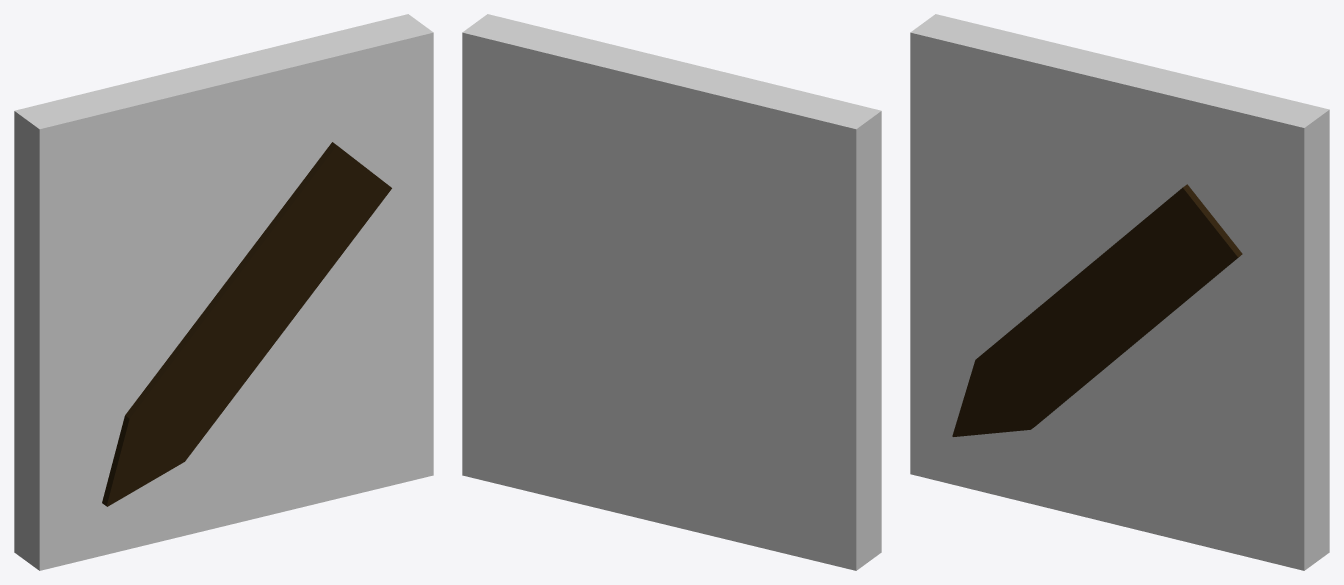
Rendered from button_edit.gltf.
3 views of the same model, side by side, from view 1: azimuth 30°, elevation 25°; view 2: azimuth 150°, elevation 25°; view 3: azimuth 330°, elevation 25° (orthographic).
Parts seen in each view (by area): view 1: ButtonEdit; view 2: ButtonEdit; view 3: ButtonEdit.
Part boxes in pixels (box(x1,y1,x2,y2)): ButtonEdit: box(14, 14, 433, 570); ButtonEdit: box(462, 14, 881, 570); ButtonEdit: box(910, 14, 1329, 570).
Size of the model in its own units: 0.1433 by 0.1539 by 0.0238.
